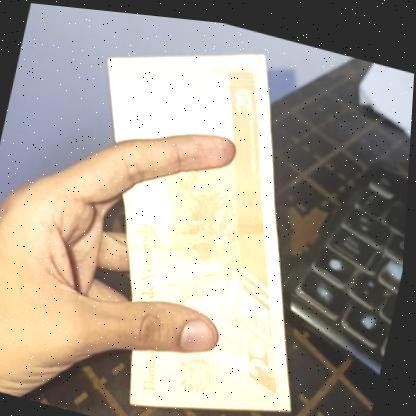twenty-back-vef: (34, 5, 367, 416)
